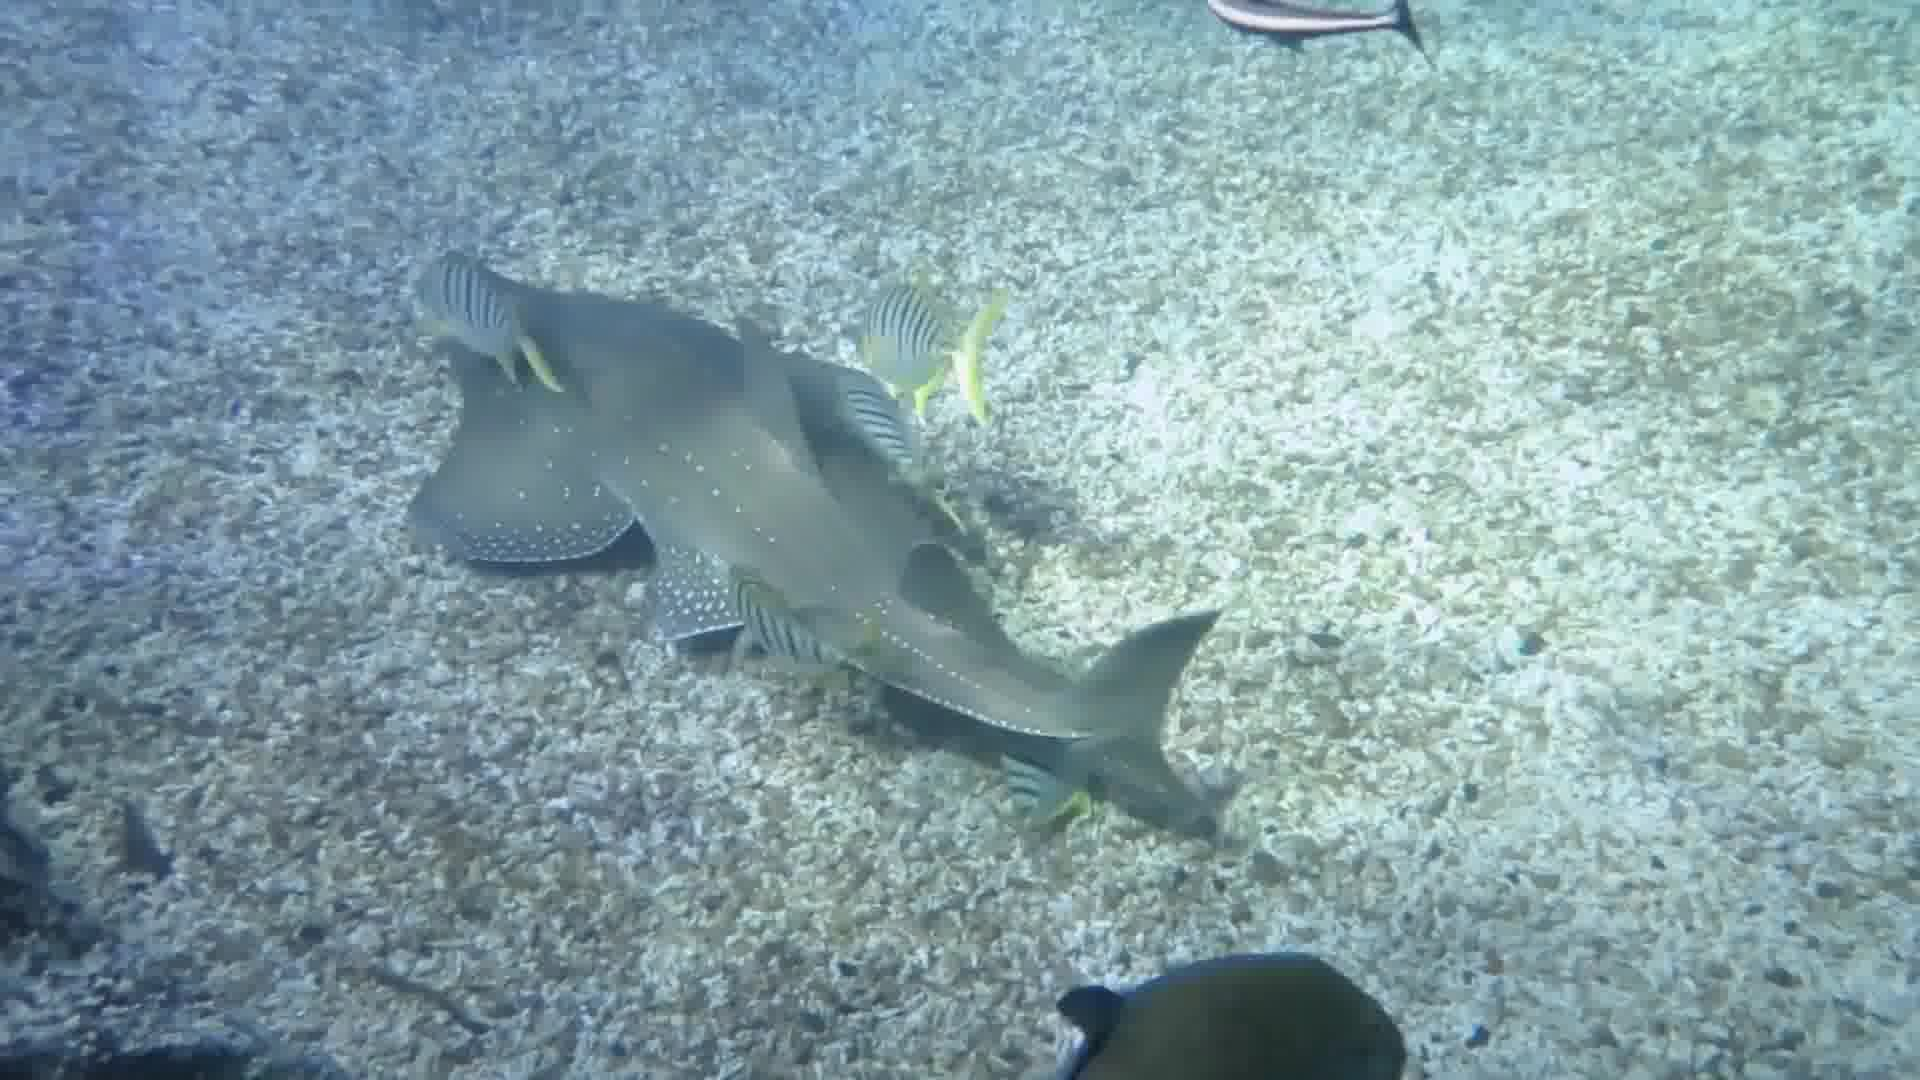Rhychobatus djiddensis: (336, 249, 1367, 812)
